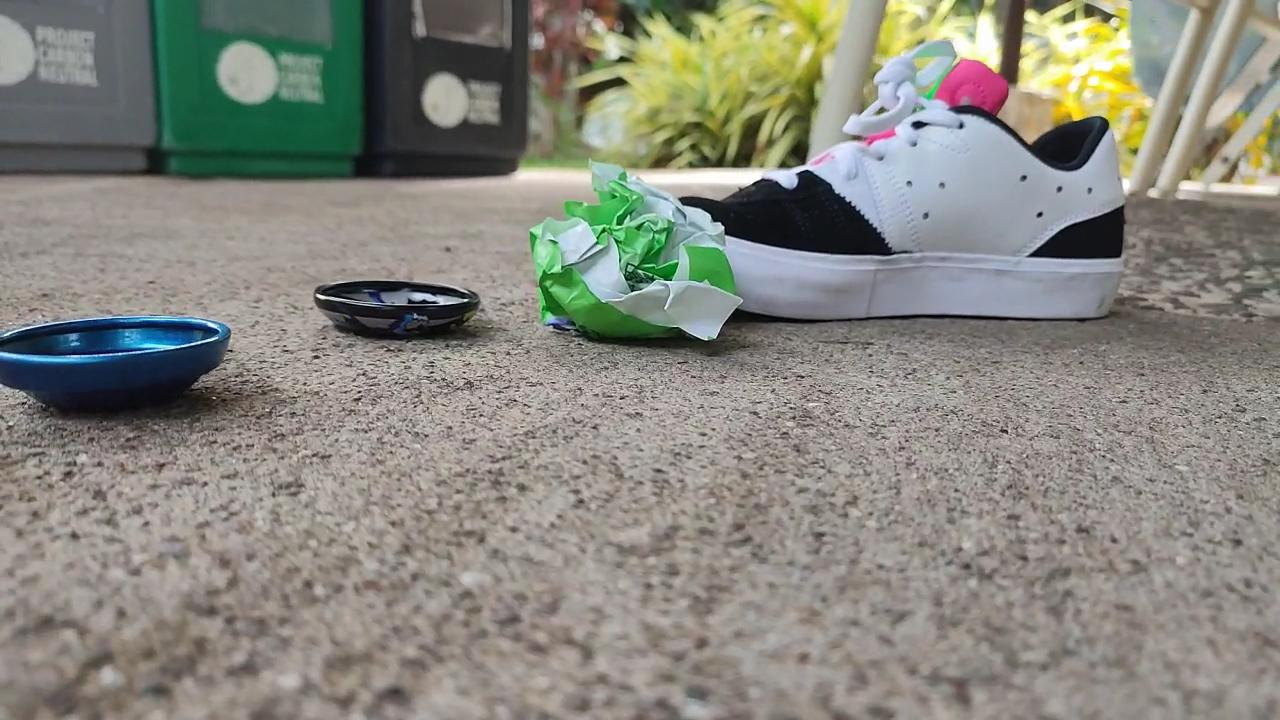Paper: (511, 145, 745, 364)
